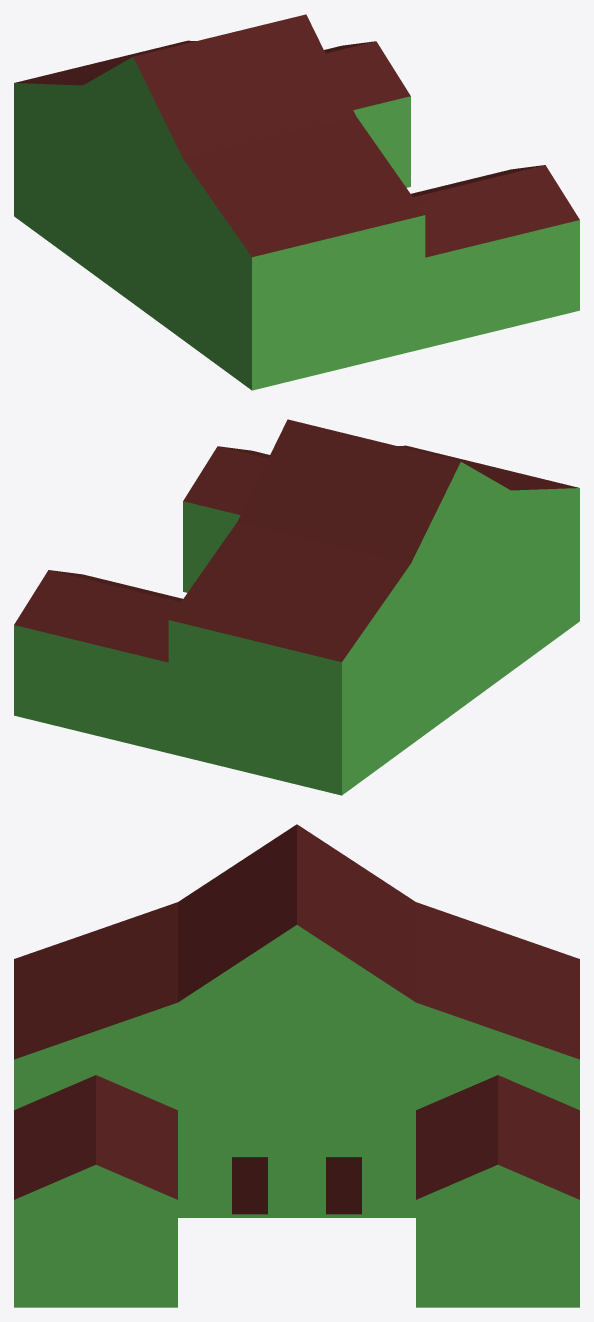
File: SimpleSchoolModel.fbx
3 views of the same model, one above another, from view 1: azimuth 30°, elevation 25°; view 2: azimuth 150°, elevation 25°; view 3: azimuth 270°, elevation 25° (orthographic). The views are drawn at different scales.
Parts seen in each view (by area): view 1: Cube.002; view 2: Cube.002; view 3: Cube.002.
Part boxes in pixels (left/top/right/bottom): Cube.002: left=14, top=14, right=579, bottom=390; Cube.002: left=14, top=419, right=579, bottom=795; Cube.002: left=14, top=824, right=579, bottom=1307.
Bounding box in the file's own units: 584 × 420 × 734.
